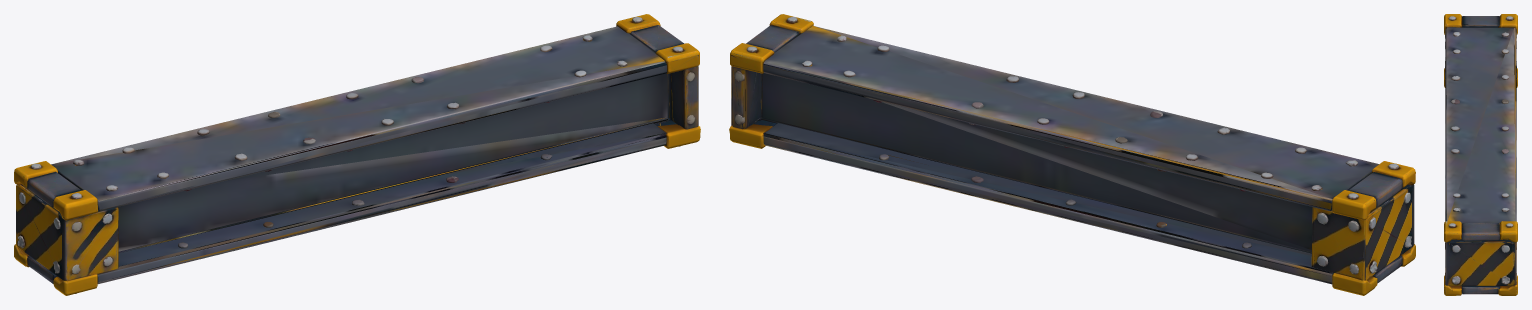
File: steel_ibeam.glb
The picture shows the model from 3 angles, left to right: view 1: azimuth 30°, elevation 25°; view 2: azimuth 150°, elevation 25°; view 3: azimuth 270°, elevation 25°; orthographic projection. The views are drawn at different scales.
Size of what is drawn, in the model's own units: 6.87 by 0.9995 by 0.9719.
Materials: 1 (1 with a texture image).
